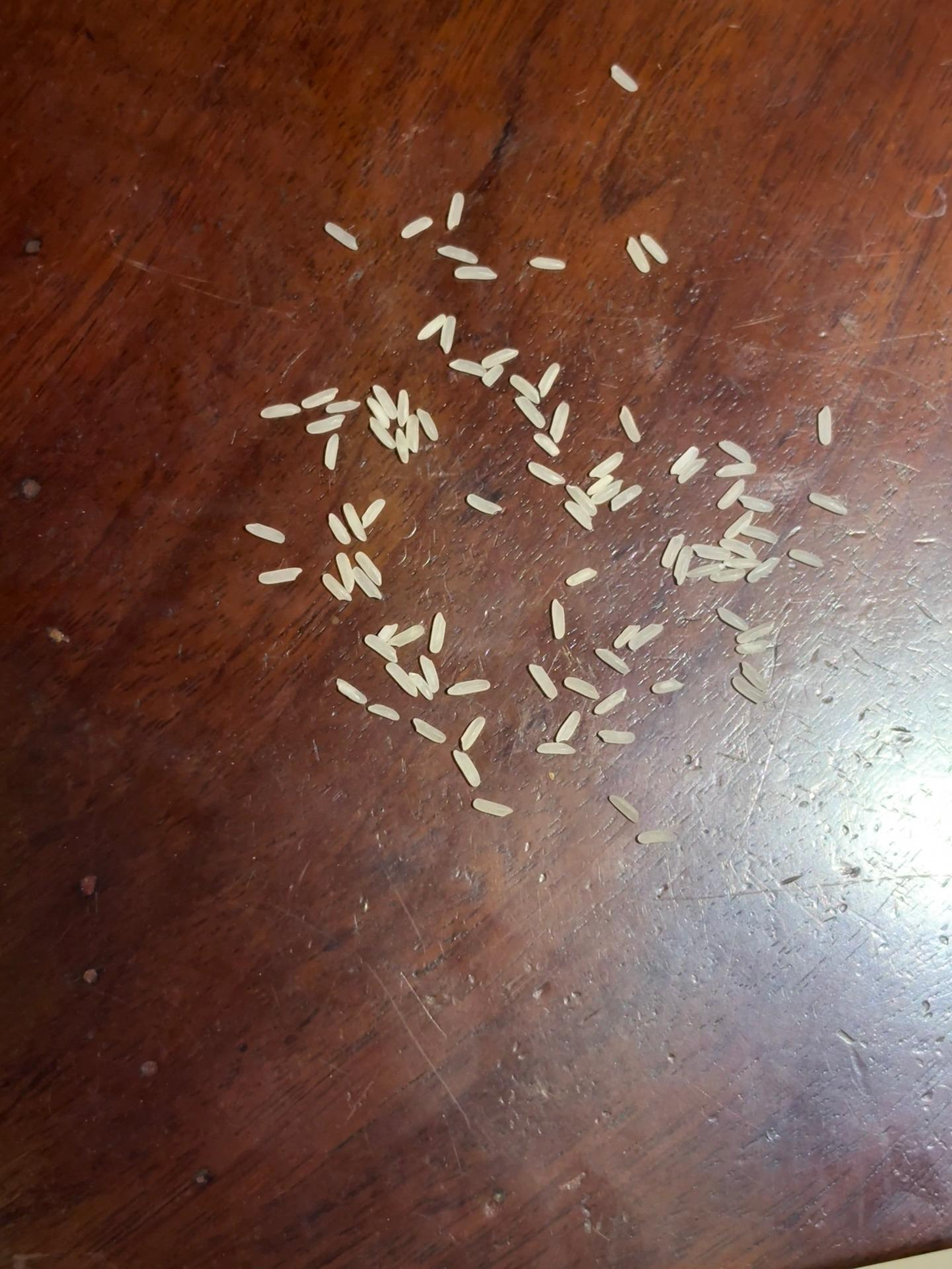Rice-th-y-nh: (386, 663, 418, 697), (453, 750, 481, 787), (732, 676, 766, 705), (342, 503, 367, 542), (529, 664, 557, 698), (567, 485, 597, 516), (353, 568, 382, 600), (460, 716, 486, 751), (609, 794, 640, 823), (595, 648, 629, 674), (356, 552, 382, 586), (629, 624, 664, 649), (510, 375, 540, 404), (516, 397, 545, 427), (325, 223, 358, 249), (365, 635, 398, 661), (809, 493, 848, 515), (373, 385, 398, 419), (718, 480, 746, 510), (626, 238, 650, 273), (747, 558, 780, 583), (736, 622, 775, 643), (724, 511, 753, 539), (610, 64, 638, 93), (741, 662, 769, 691), (641, 234, 668, 264), (611, 485, 642, 511), (529, 462, 564, 485), (595, 689, 627, 714), (438, 244, 478, 264), (590, 453, 623, 477), (413, 719, 446, 743), (670, 447, 698, 475), (322, 574, 351, 601), (565, 501, 592, 530), (369, 418, 395, 448), (246, 523, 285, 543), (550, 403, 570, 442), (619, 407, 641, 442), (564, 677, 599, 699), (556, 711, 580, 743), (591, 481, 623, 505), (307, 414, 345, 434), (473, 798, 513, 817), (417, 315, 446, 341), (337, 679, 367, 704), (720, 440, 752, 463), (389, 625, 424, 646), (662, 534, 684, 567), (678, 458, 707, 483), (720, 538, 756, 558), (674, 547, 693, 584), (420, 656, 439, 693), (302, 388, 337, 408), (539, 364, 560, 397), (328, 514, 351, 544), (717, 608, 748, 630), (417, 408, 438, 440), (409, 672, 433, 700), (367, 398, 390, 427), (450, 359, 487, 377), (259, 568, 300, 584), (448, 679, 489, 695), (401, 217, 432, 238), (467, 495, 501, 514), (550, 600, 567, 638), (362, 499, 385, 527), (482, 349, 517, 367), (742, 525, 777, 543), (447, 193, 464, 230), (693, 545, 732, 561), (430, 613, 446, 652), (337, 554, 354, 590), (817, 406, 833, 444), (614, 625, 640, 648), (440, 316, 456, 353), (687, 564, 724, 580), (455, 266, 497, 280), (740, 496, 774, 513), (789, 549, 823, 566), (537, 740, 575, 755), (534, 434, 559, 456), (717, 463, 756, 477), (261, 404, 300, 418), (395, 391, 411, 425), (566, 568, 596, 586), (405, 415, 420, 451), (325, 434, 340, 469), (395, 429, 410, 463), (599, 730, 635, 744), (710, 569, 746, 583), (587, 476, 613, 495), (368, 705, 399, 720), (652, 679, 683, 694), (530, 257, 565, 270), (326, 400, 360, 413), (483, 365, 504, 386), (725, 557, 759, 569), (736, 643, 766, 655), (378, 624, 398, 641)
